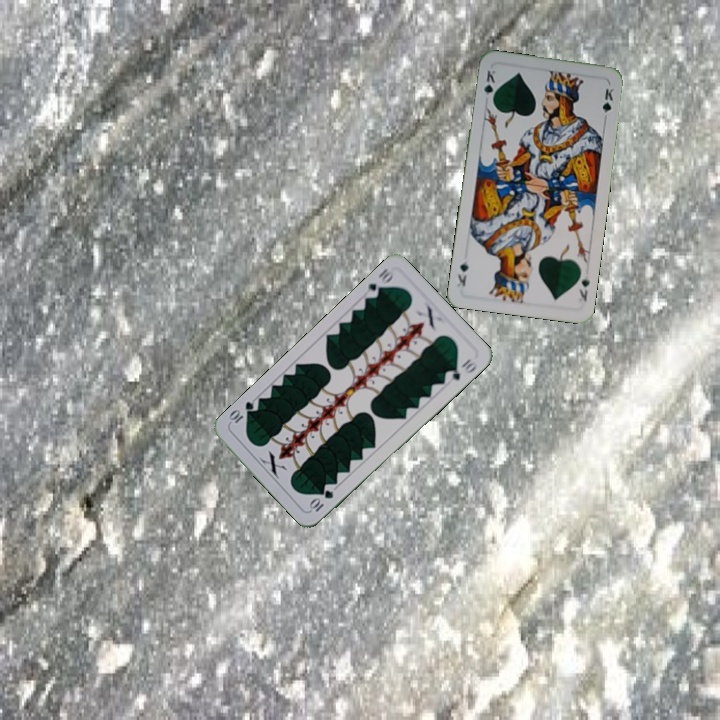G10: (364, 264, 397, 301), (305, 486, 336, 514)
GK: (480, 66, 498, 106), (574, 272, 592, 304)
